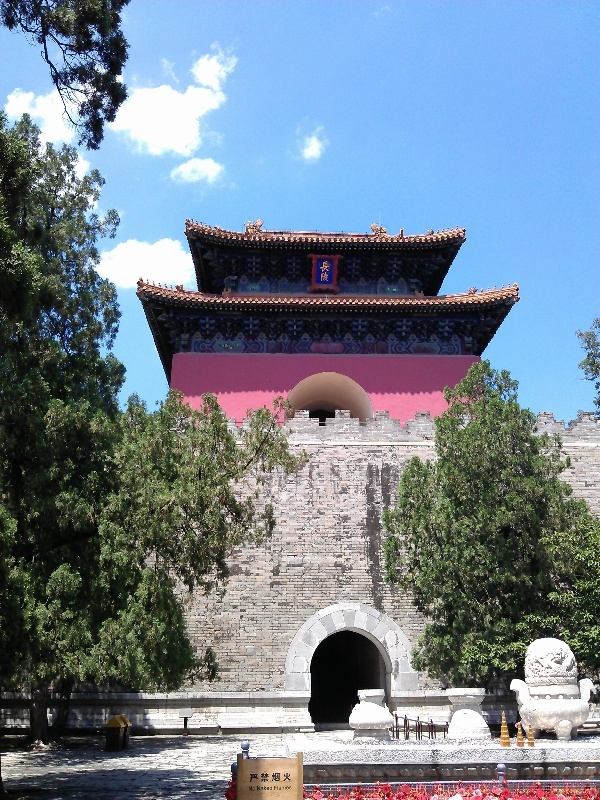text: (321, 261, 336, 282), (257, 772, 272, 783), (273, 772, 288, 783), (249, 772, 256, 783), (257, 786, 272, 791), (274, 786, 288, 790), (248, 786, 256, 792), (289, 772, 291, 783), (289, 786, 292, 790)
